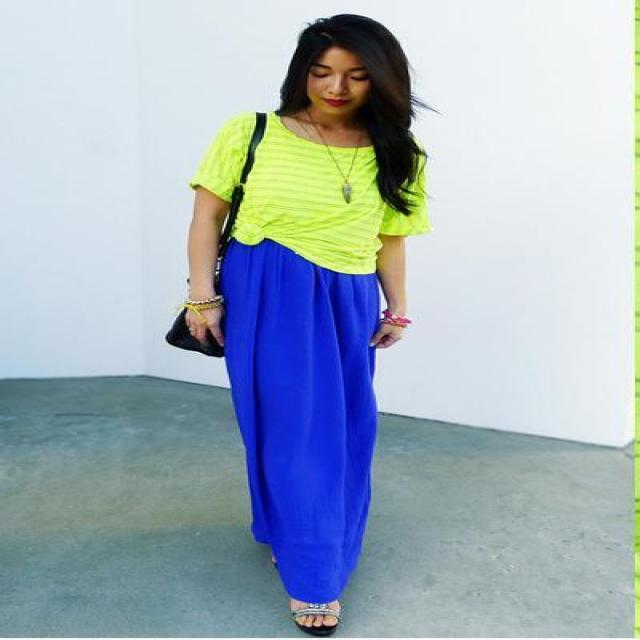bag: (166, 307, 224, 356)
pants: (220, 243, 386, 604)
shirt: (190, 113, 428, 273)
shoe: (250, 602, 336, 639)
